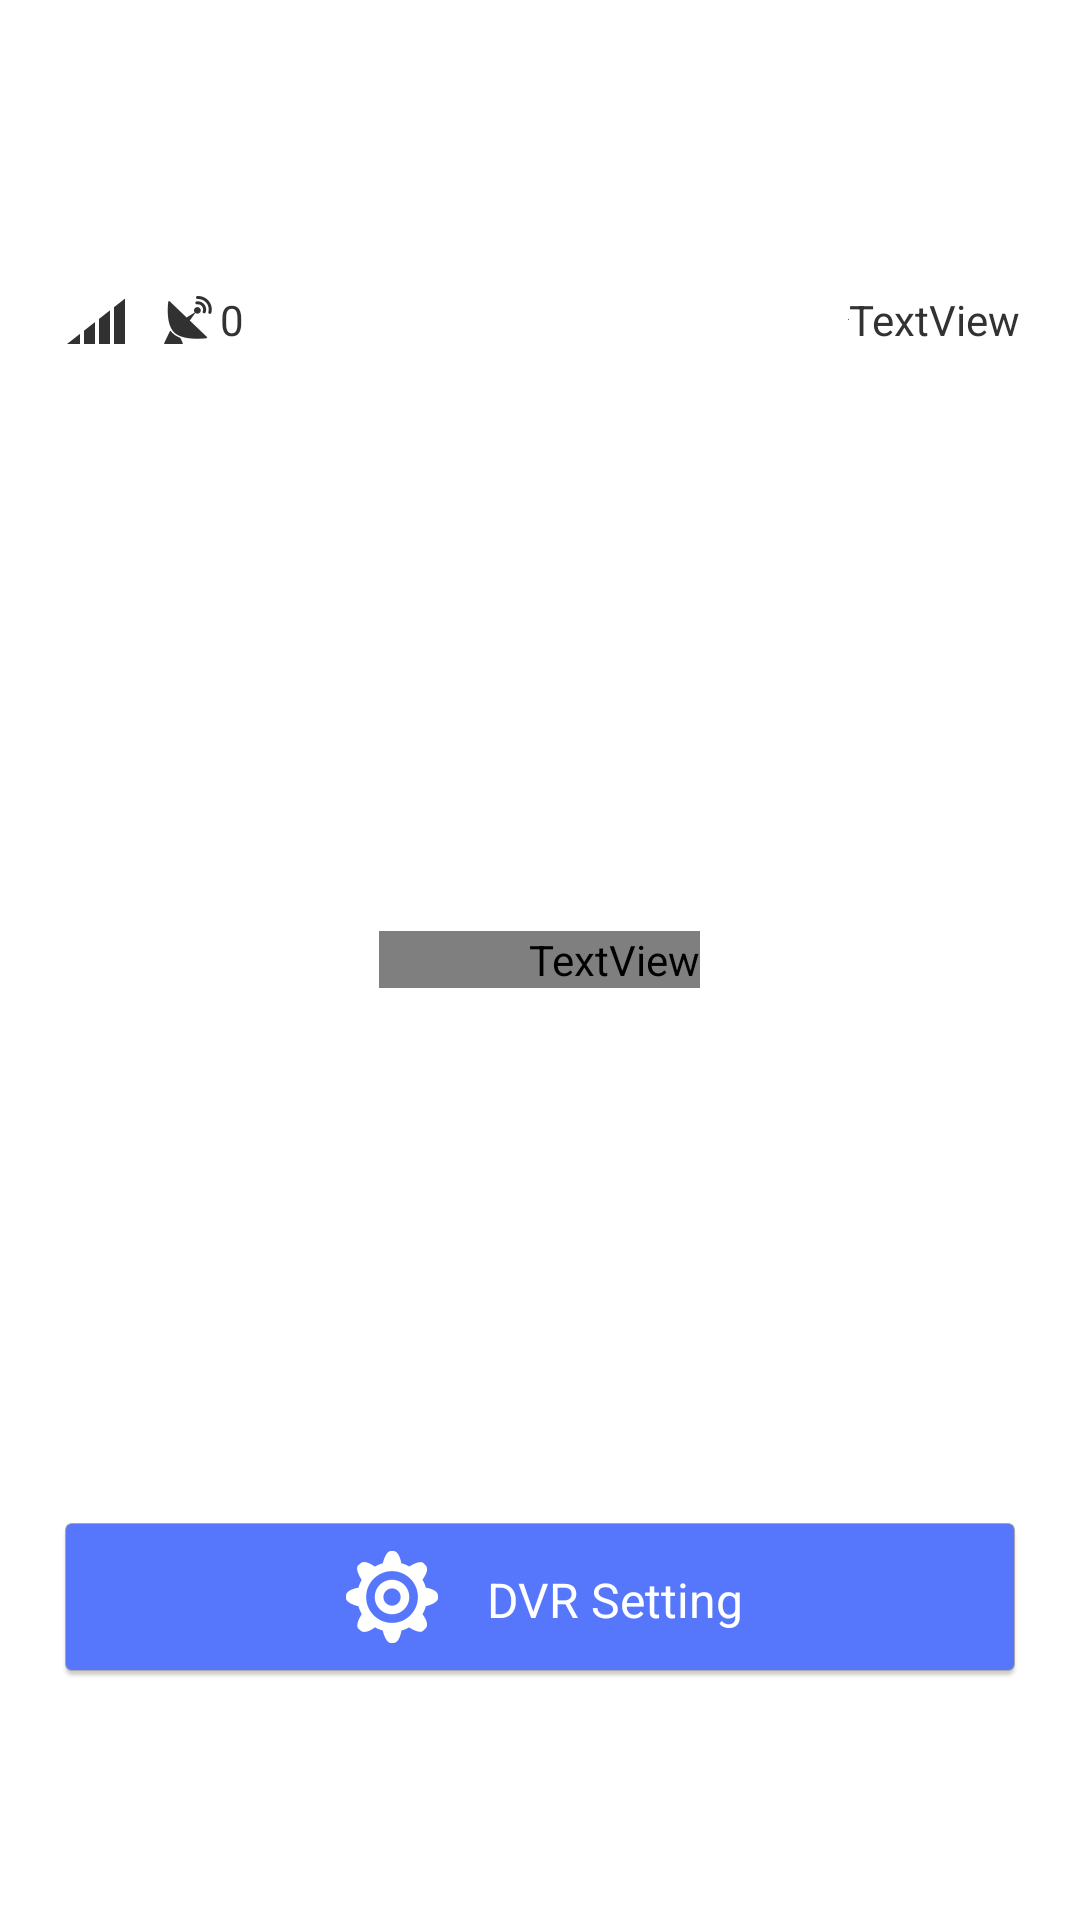

Locate icon controls on the screen. Image size 1080 × 1920, boxes as (x1, y1, x2, y2).
mobile signal: (67, 299, 125, 344)
satellite: (164, 296, 212, 344)
